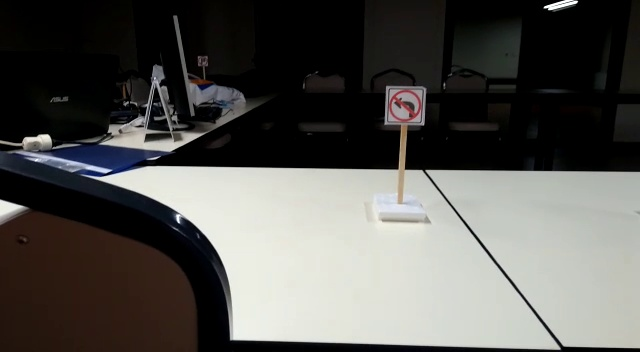sola_donulmez: (384, 88, 425, 123)
